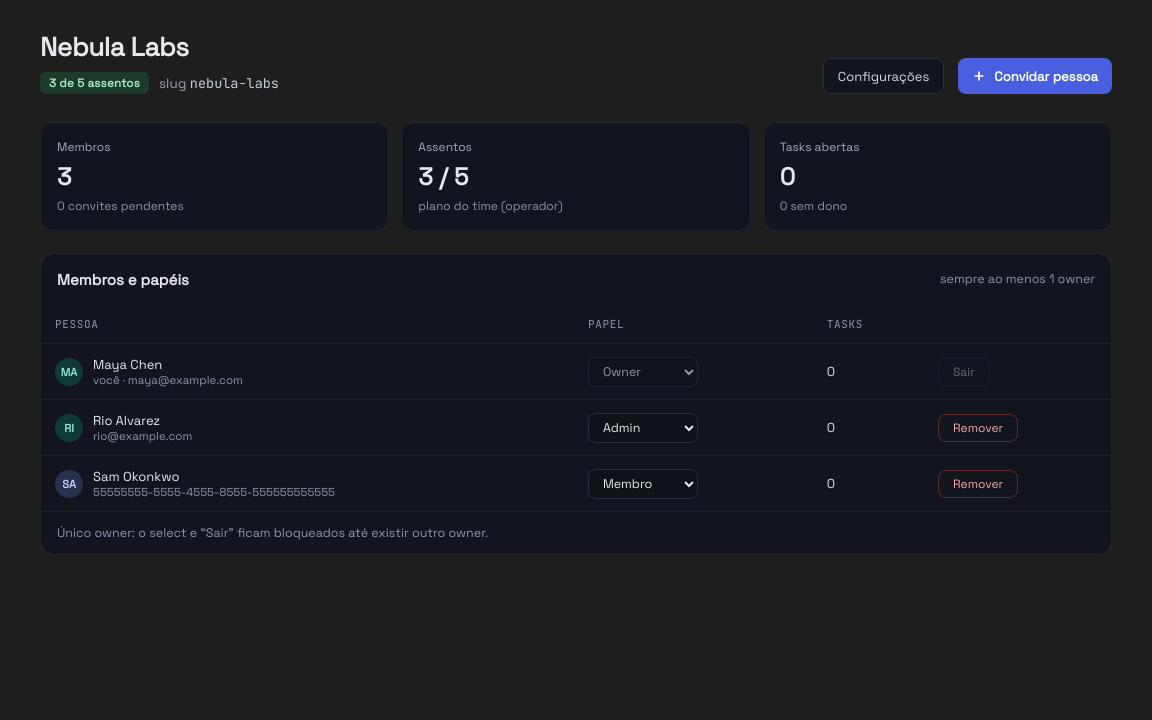
Test case: Invite modal › send by email: invites with email delivery, closes and notes who got it
Step 1. Click the button "Convidar pessoa" → (1035, 76), box [958, 58, 1112, 94]
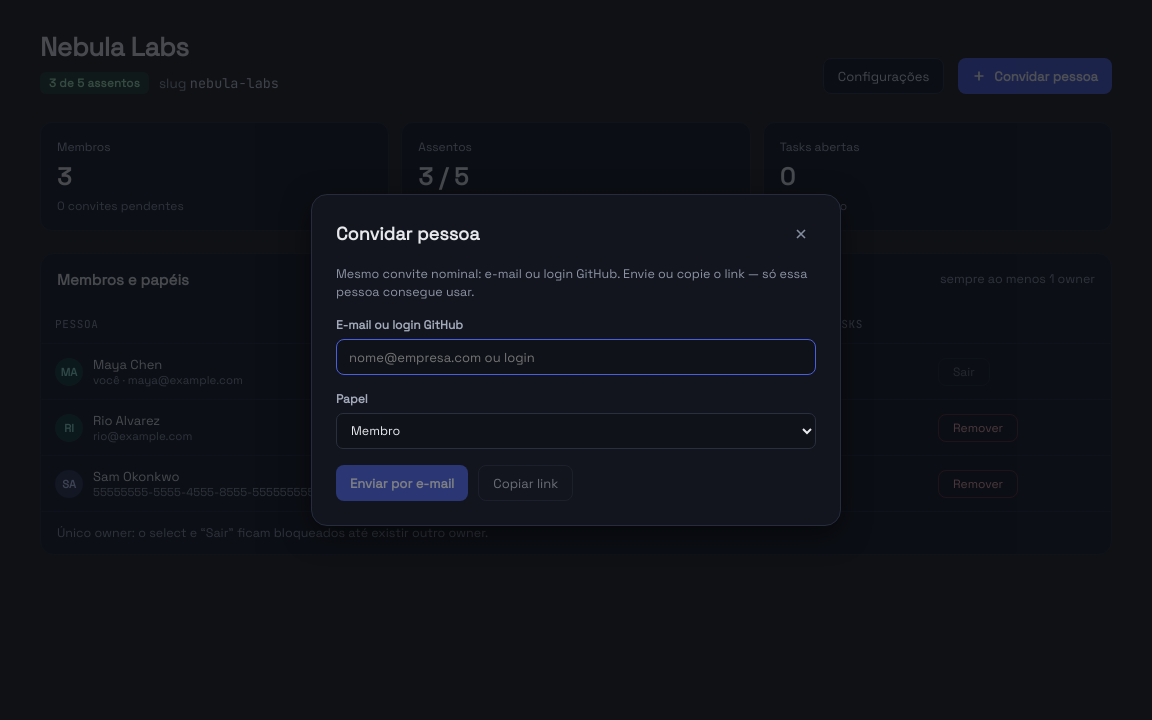
Step 2. Type "kai@example.com" into the field with placeholder "nome@empresa.com ou login" → (576, 357), box [336, 339, 816, 375]
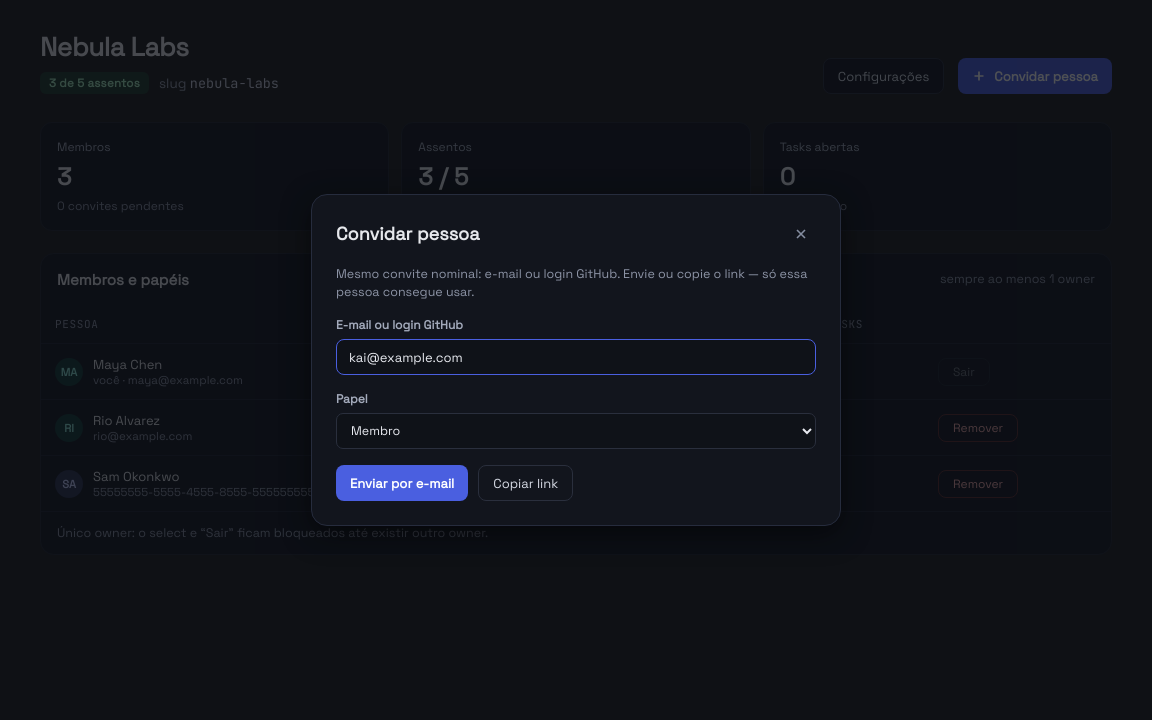
Step 3. Select "Admin" in the dropdown labelled "Papel" → (576, 431), box [336, 413, 816, 449]
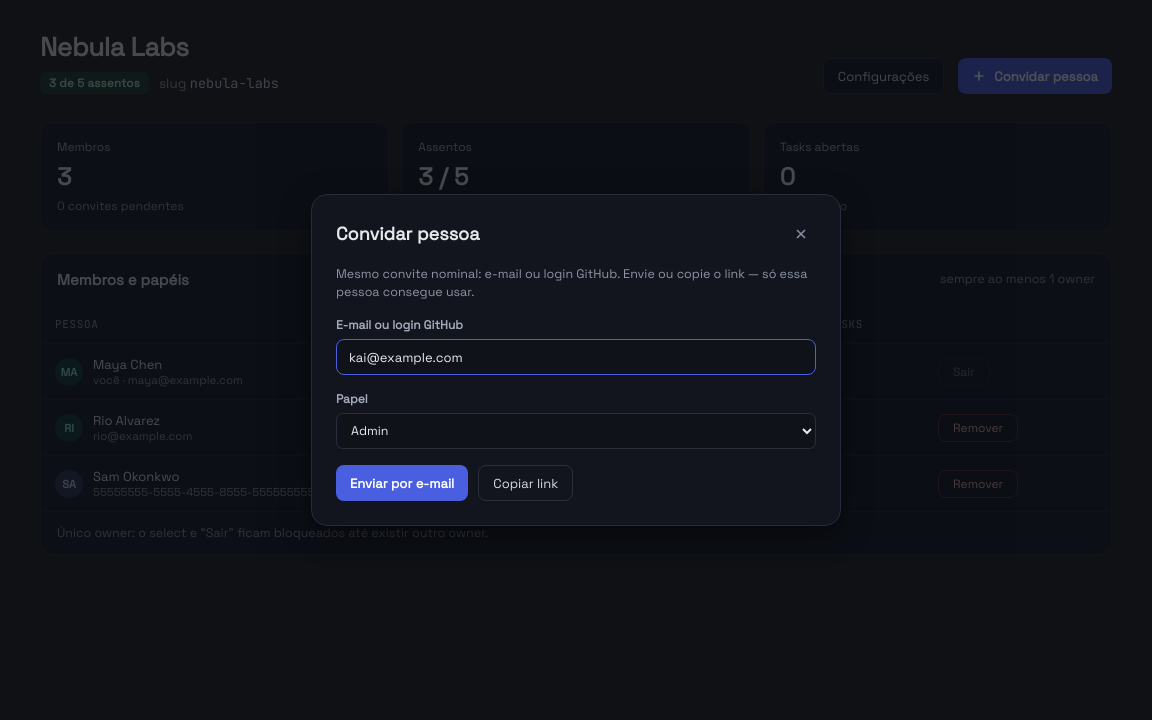
Step 4. Click the button "Enviar por e-mail" → (402, 483), box [336, 465, 468, 501]
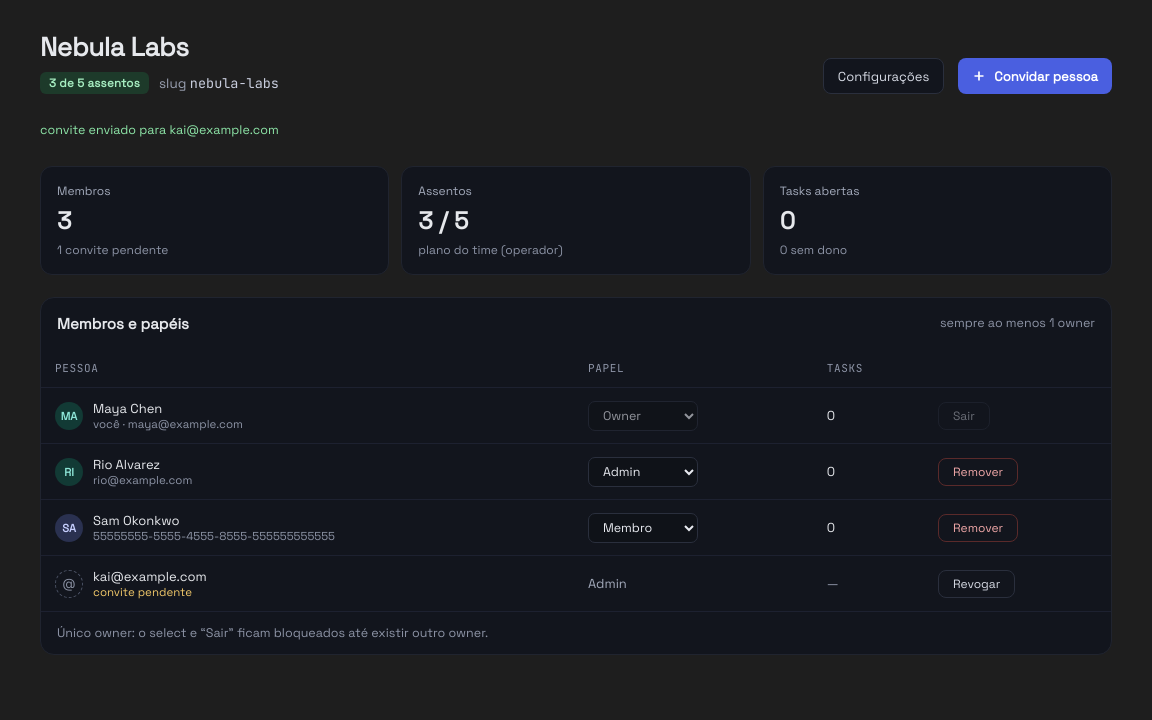
Result: the text "convite enviado para kai@example.com" is shown at [40, 122, 279, 138]
